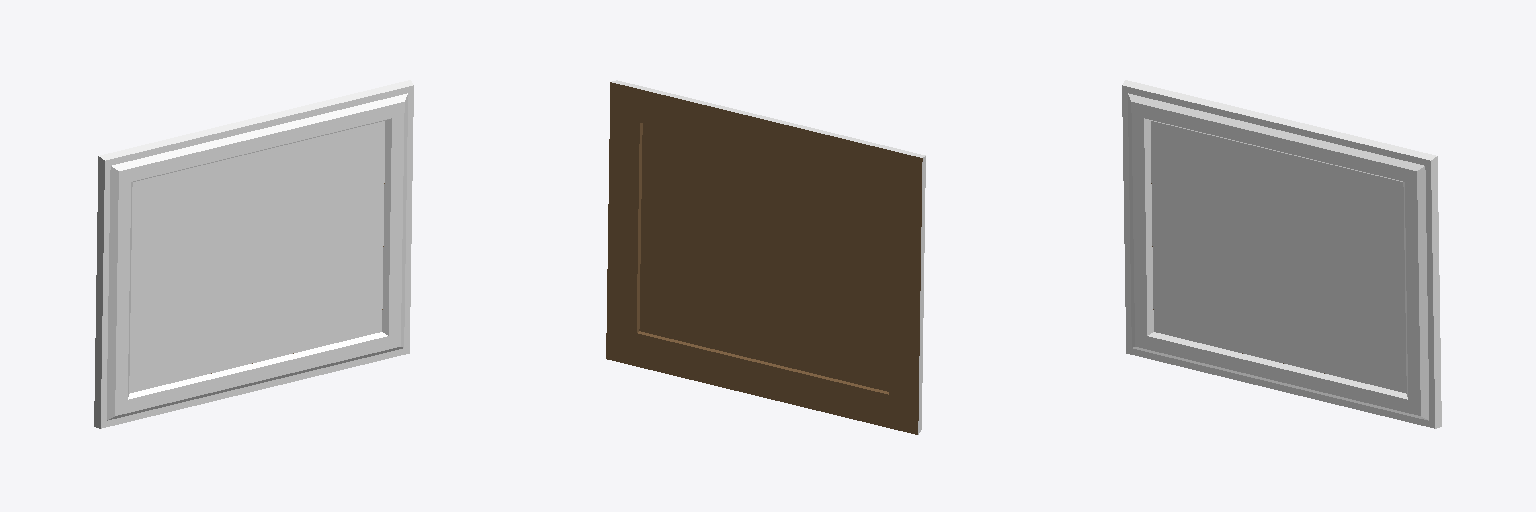
File: frame_horizontal.obj
3 renders of one model, left to right at view 1: azimuth 30°, elevation 25°; view 2: azimuth 150°, elevation 25°; view 3: azimuth 330°, elevation 25°, orthographic.
Visible parts, largest first — view 1: 1_1, 4_4, 6_6, 3_3; view 2: 2_2, 5_5, 6_6; view 3: 1_1, 4_4, 6_6, 3_3.
Part boxes in pixels (left/top/right/bottom): 1_1: left=129, top=121, right=384, bottom=393; 4_4: left=107, top=93, right=407, bottom=420; 6_6: left=94, top=80, right=413, bottom=428; 3_3: left=128, top=118, right=391, bottom=399; 2_2: left=639, top=123, right=891, bottom=391; 5_5: left=606, top=82, right=922, bottom=434; 6_6: left=612, top=80, right=925, bottom=434; 1_1: left=1151, top=121, right=1406, bottom=393; 4_4: left=1128, top=93, right=1428, bottom=420; 6_6: left=1122, top=80, right=1441, bottom=428; 3_3: left=1144, top=118, right=1407, bottom=399.
Size of the model in its own units: 155 by 130 by 10.